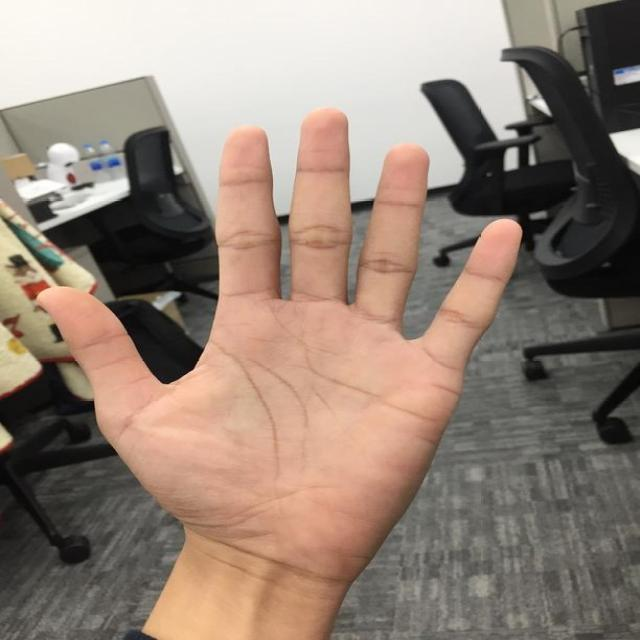Hand: (26, 105, 532, 640)
